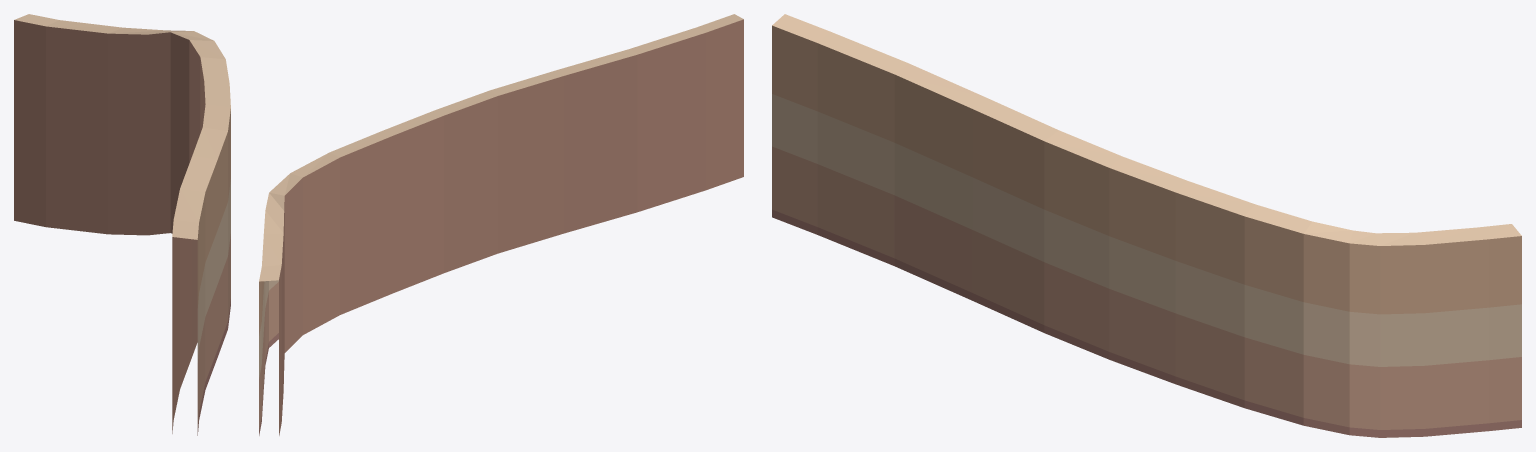
File: pared_izquierda_4.glb
The picture shows the model from 3 angles, left to right: view 1: azimuth 30°, elevation 25°; view 2: azimuth 150°, elevation 25°; view 3: azimuth 270°, elevation 25°; orthographic projection. The views are drawn at different scales.
Visible parts, largest first — view 1: pared_izquierda_4; view 2: pared_izquierda_4; view 3: pared_izquierda_4.
Boxes of the visible parts, <box> form: pared_izquierda_4: <box>14,14,230,435</box>; pared_izquierda_4: <box>259,14,743,435</box>; pared_izquierda_4: <box>772,14,1521,437</box>.
Bounding box in the file's own units: 12.09 × 11.48 × 25.86.
